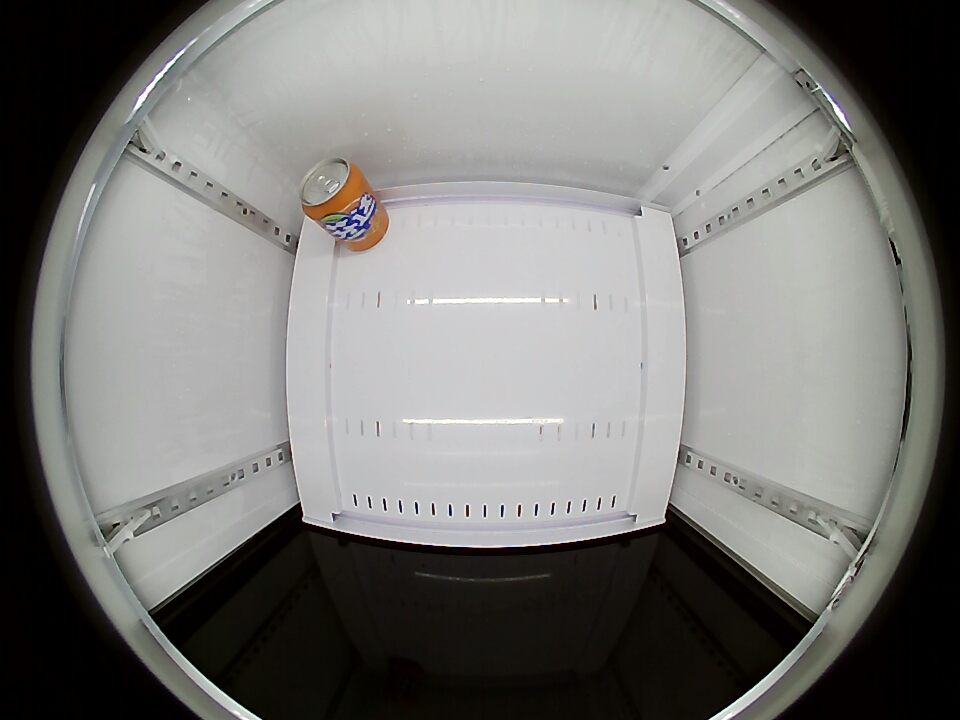fenda: (299, 157, 364, 221)
